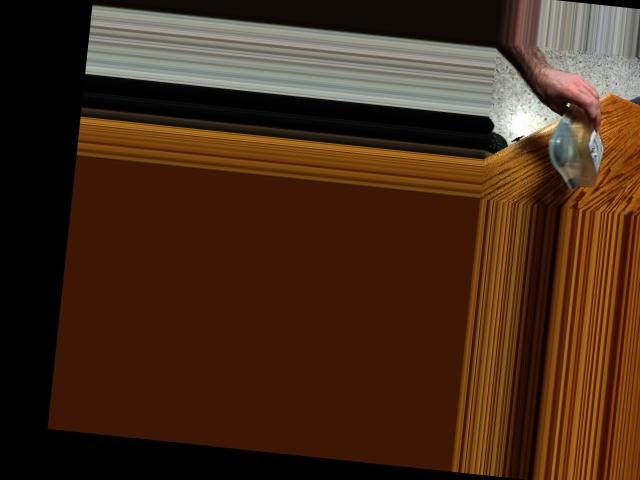cheese: (548, 85, 611, 193)
